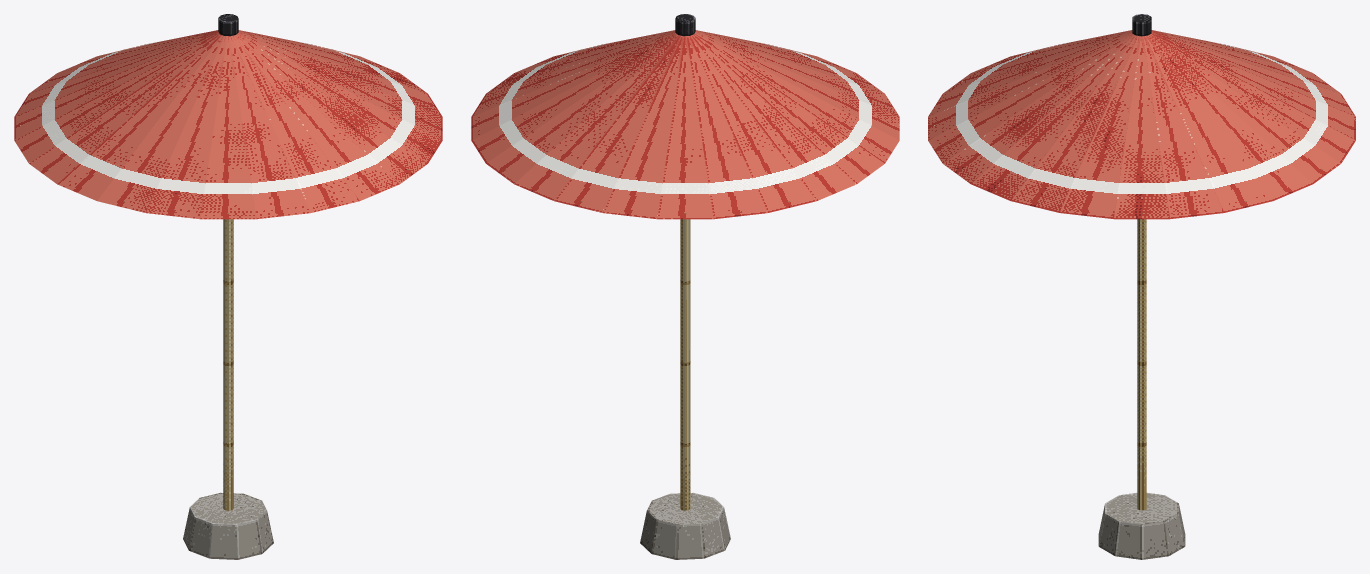
The model's file is wagasa_parasol.glb.
3 renders of one model, left to right at view 1: azimuth 30°, elevation 25°; view 2: azimuth 150°, elevation 25°; view 3: azimuth 270°, elevation 25°, orthographic.
Parts seen in each view (by area): view 1: wagasa_parasol; view 2: wagasa_parasol; view 3: wagasa_parasol.
Boxes of the visible parts, x1=… form: wagasa_parasol: x1=14, y1=14, x2=442, y2=559; wagasa_parasol: x1=471, y1=14, x2=899, y2=559; wagasa_parasol: x1=928, y1=14, x2=1355, y2=559.
Size of the model in its own units: 1.69 by 2.27 by 1.69.
1 material, 1 textured.
